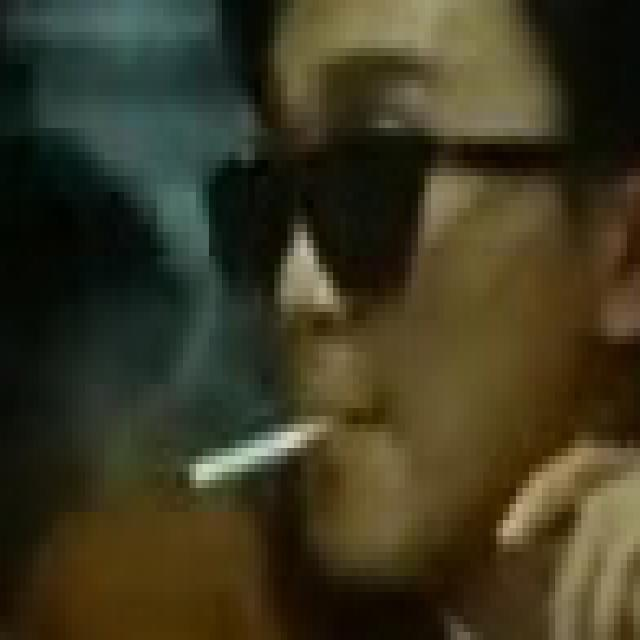smoking: (182, 410, 346, 494)
